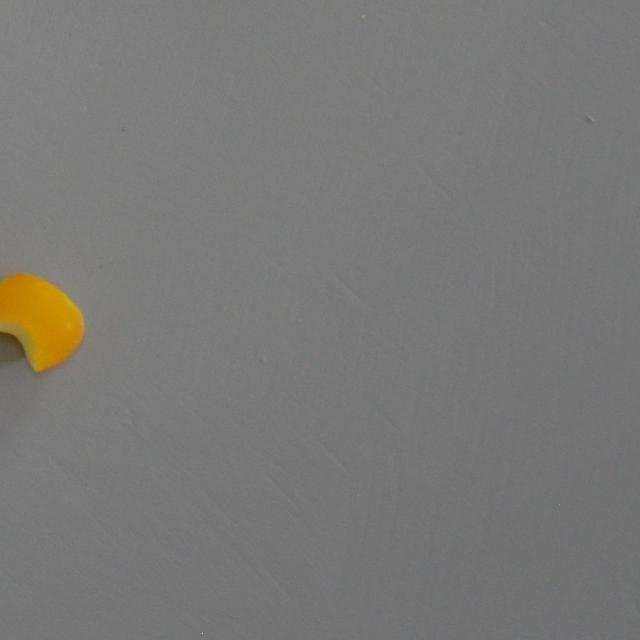no_canjicado: (0, 271, 84, 372)
